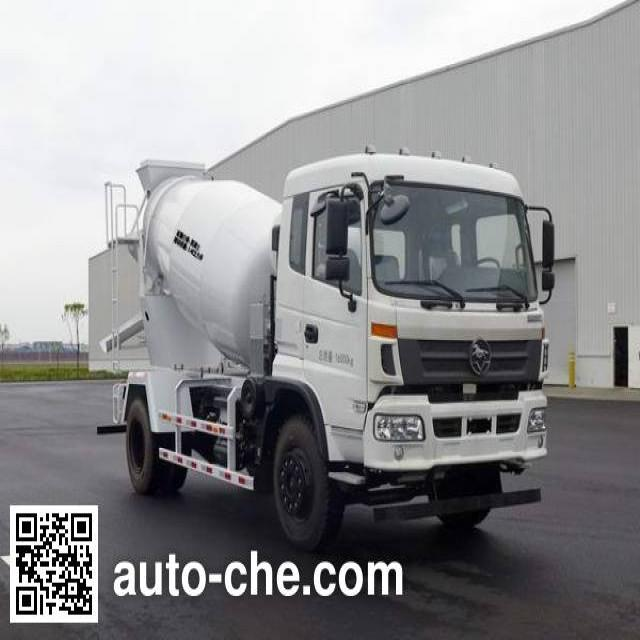Mixer Truck: (97, 159, 547, 550)
